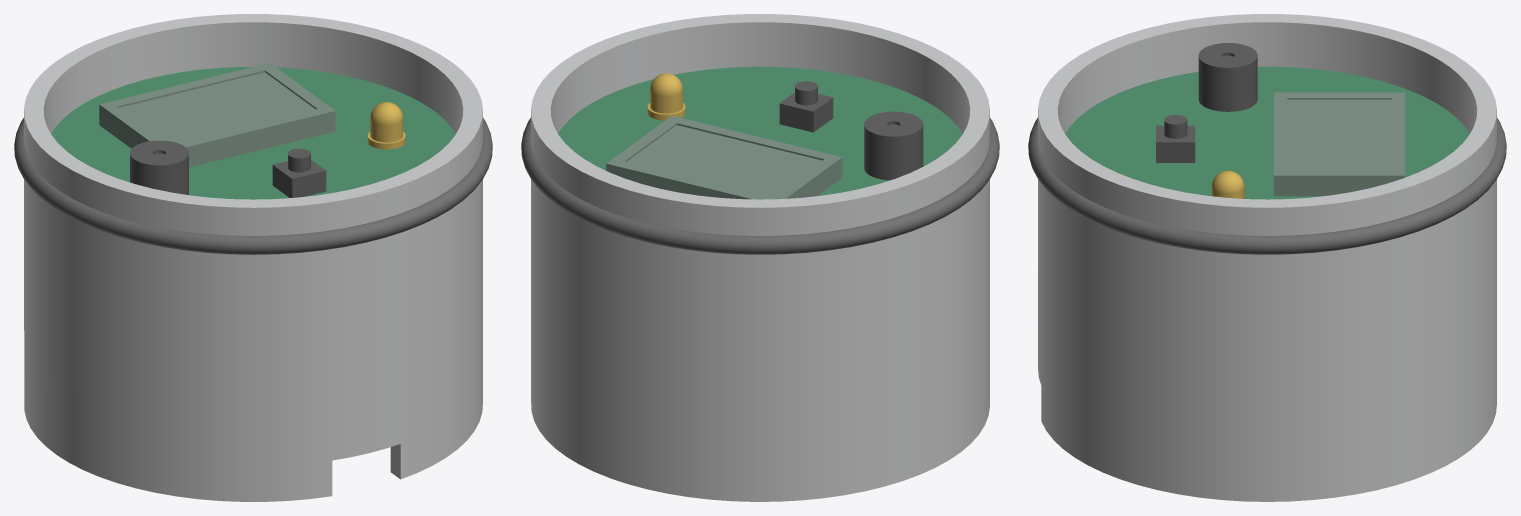
File: step_02.glb
3 renders of one model, left to right at view 1: azimuth 30°, elevation 25°; view 2: azimuth 150°, elevation 25°; view 3: azimuth 270°, elevation 25°, orthographic.
Parts seen in each view (by area): view 1: part__pod column, part__panel circuit board, part__display, part__pod O-ring, part__buzzer, part__button switch, part__flashing light; view 2: part__pod column, part__panel circuit board, part__display, part__pod O-ring, part__buzzer, part__button switch, part__flashing light; view 3: part__pod column, part__panel circuit board, part__display, part__pod O-ring, part__buzzer, part__button switch, part__flashing light.
Boxes of the visible parts, box(x1,y1,x2,y2) form: part__pod column: box(24, 14, 482, 501); part__panel circuit board: box(51, 67, 455, 199); part__display: box(99, 63, 335, 167); part__pod O-ring: box(14, 118, 492, 254); part__buzzer: box(130, 140, 188, 194); part__button switch: box(272, 148, 326, 197); part__flashing light: box(367, 102, 405, 149); part__pod column: box(531, 14, 989, 501); part__panel circuit board: box(558, 66, 962, 195); part__display: box(606, 115, 842, 199); part__pod O-ring: box(521, 118, 999, 254); part__buzzer: box(864, 111, 923, 180); part__button switch: box(779, 81, 833, 132); part__flashing light: box(647, 73, 685, 120); part__pod column: box(1038, 14, 1496, 501); part__panel circuit board: box(1065, 66, 1469, 199); part__display: box(1274, 92, 1405, 196); part__pod O-ring: box(1028, 118, 1506, 254); part__buzzer: box(1198, 43, 1257, 111); part__button switch: box(1156, 115, 1195, 162); part__flashing light: box(1211, 170, 1244, 198).
Bounding box in the file's own units: 72.95 × 49.5 × 72.98.
